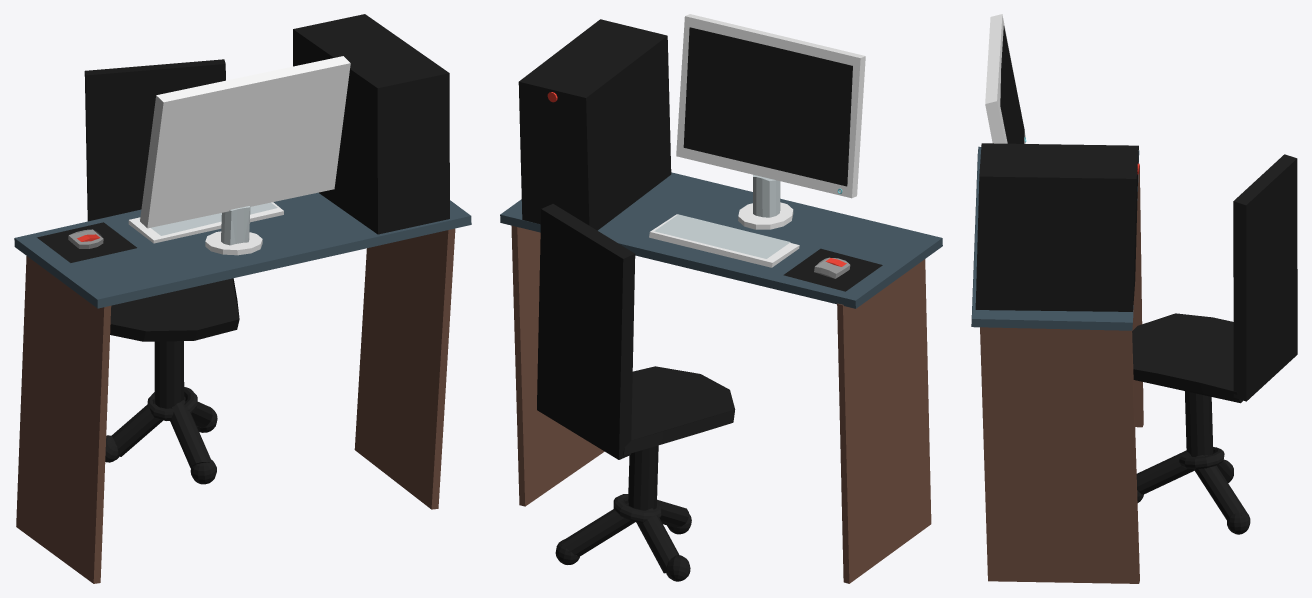
Rendered from ComputerTable.glb.
3 renders of one model, left to right at view 1: azimuth 30°, elevation 25°; view 2: azimuth 150°, elevation 25°; view 3: azimuth 270°, elevation 25°, orthographic. The views are drawn at different scales.
Parts seen in each view (by area): view 1: Node; view 2: Node; view 3: Node.
Boxes of the visible parts, left/top/right/bottom form: Node: left=14, top=14, right=471, bottom=583; Node: left=500, top=14, right=942, bottom=583; Node: left=971, top=14, right=1297, bottom=583.
Bounding box in the file's own units: 2.46 × 2.99 × 1.99.
